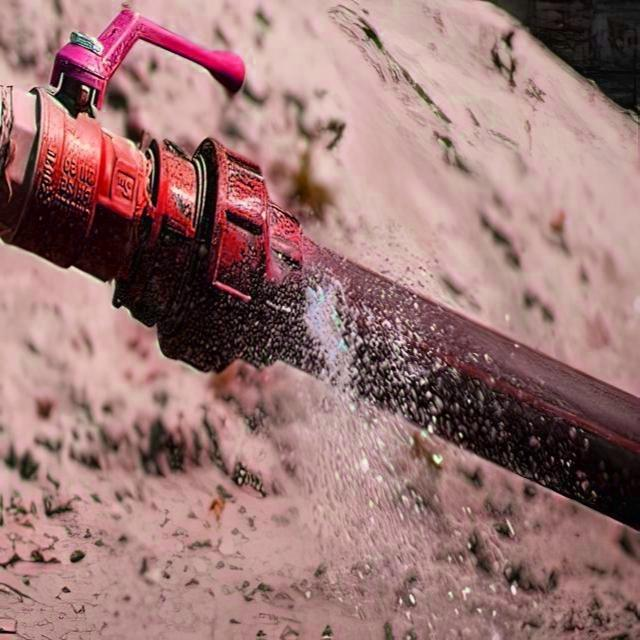Leak: (282, 266, 368, 359)
